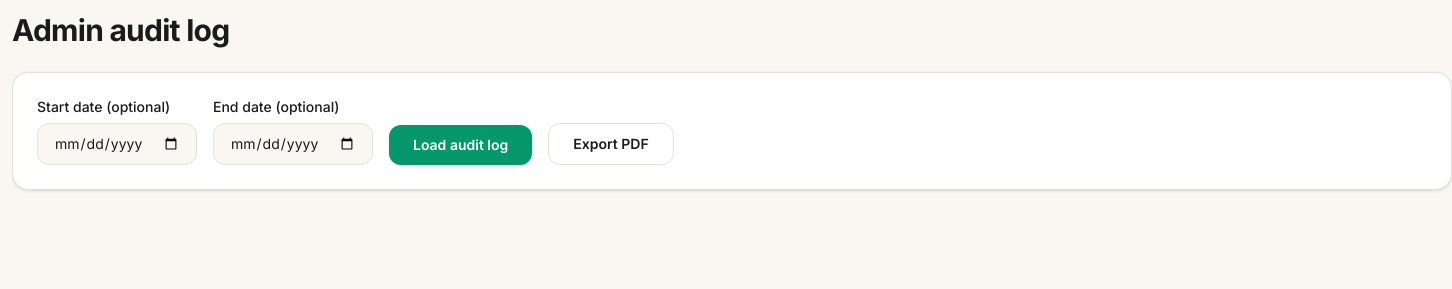
shows an empty-state message when there are no entries
Click the button "Load audit log" at (461, 145), box [389,125,532,165]
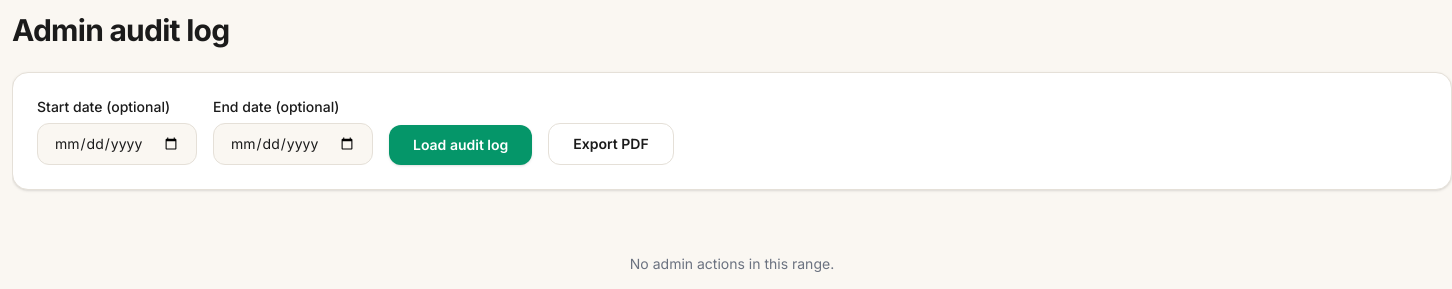
Expected: the text "No admin actions in this range." is shown, [630,255,834,272]
